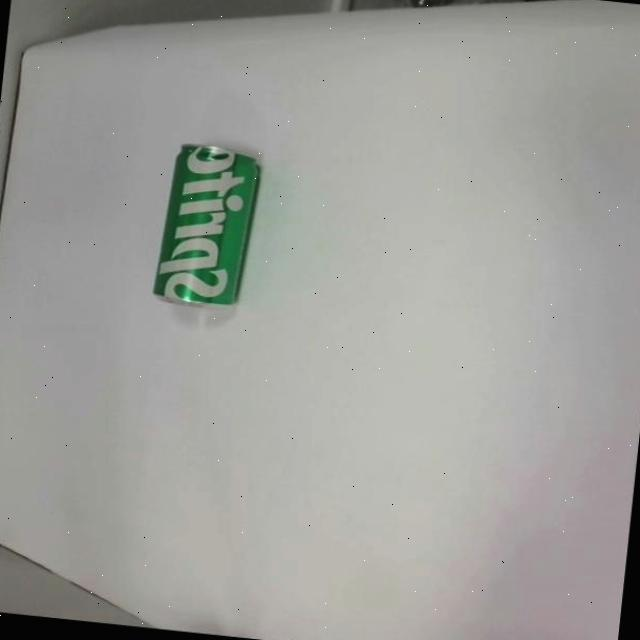debris: (148, 138, 263, 312)
